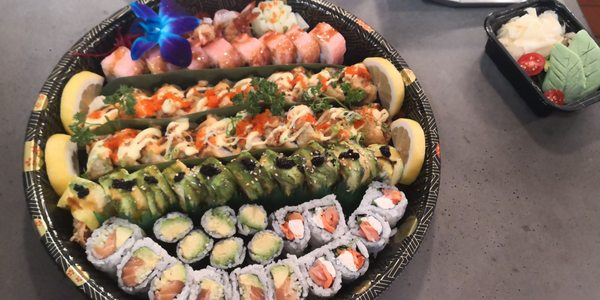sushi: (483, 0, 600, 117)
